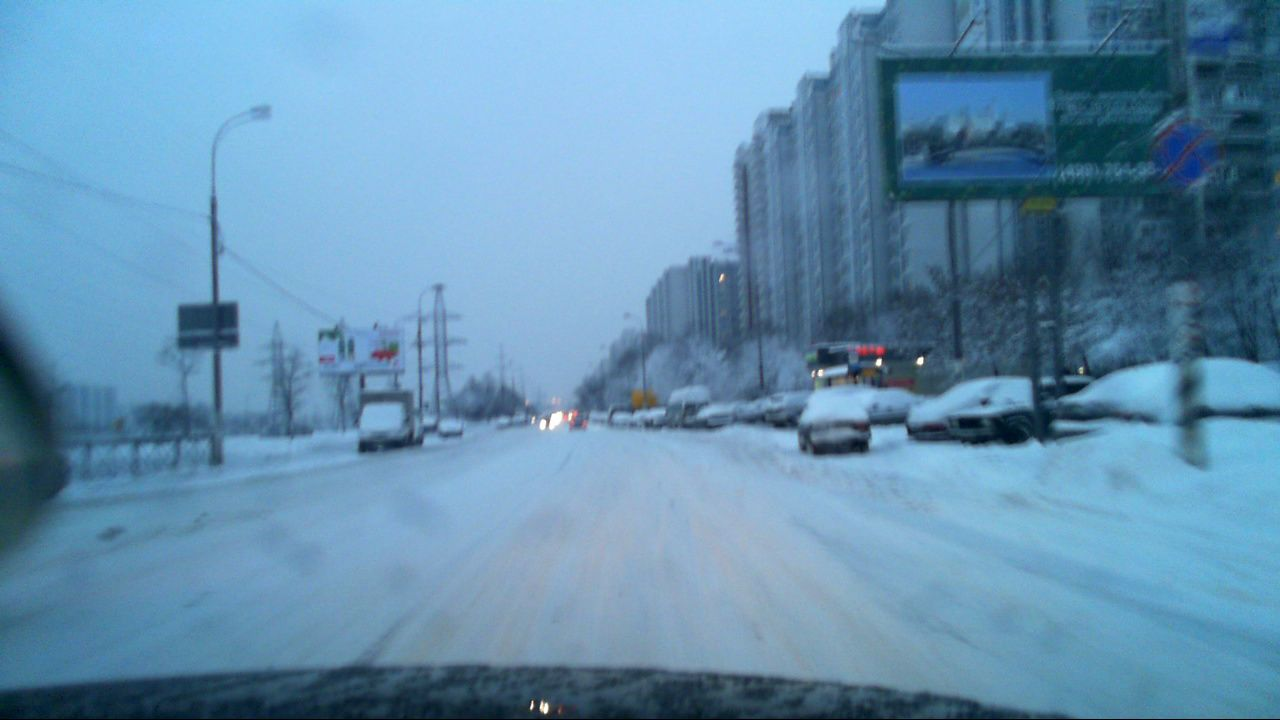No Parking: (1153, 113, 1228, 189)
